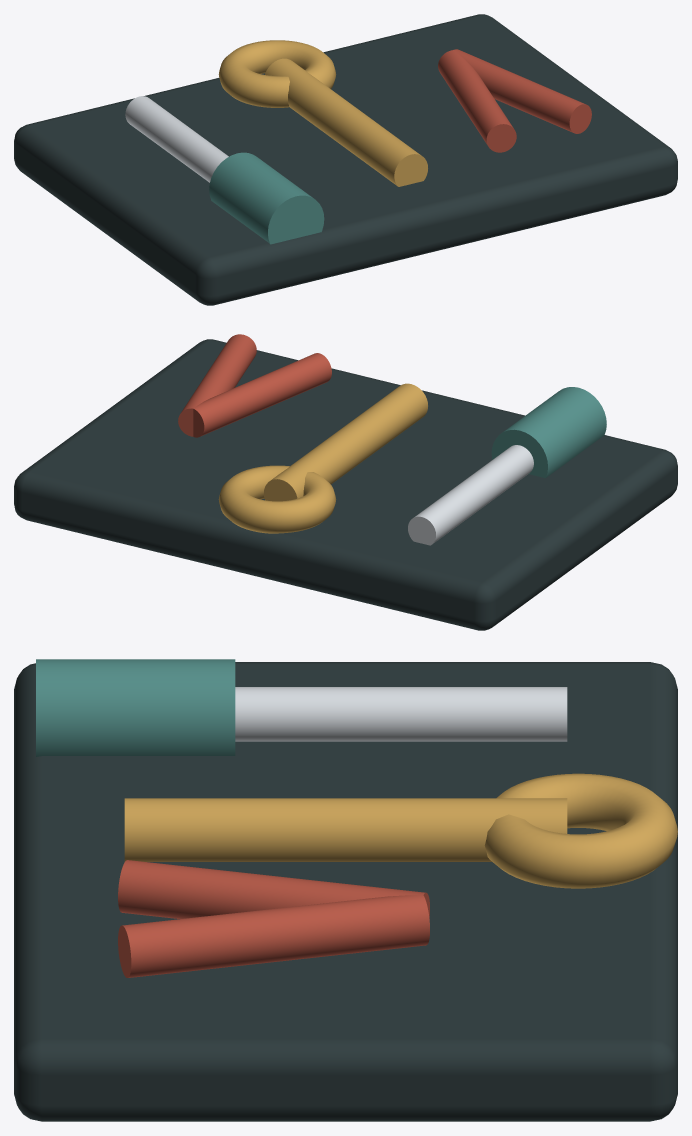
File: tools.glb
3 views of the same model, one above another, from view 1: azimuth 30°, elevation 25°; view 2: azimuth 150°, elevation 25°; view 3: azimuth 270°, elevation 25° (orthographic). The views are drawn at different scales.
Parts seen in each view (by area): view 1: tools; view 2: tools; view 3: tools.
Boxes of the visible parts, <box> form: tools: <box>14,14,677,305</box>; tools: <box>14,334,677,630</box>; tools: <box>14,659,677,1121</box>.
Bounding box in the file's own units: 0.85 × 0.15 × 0.6.
